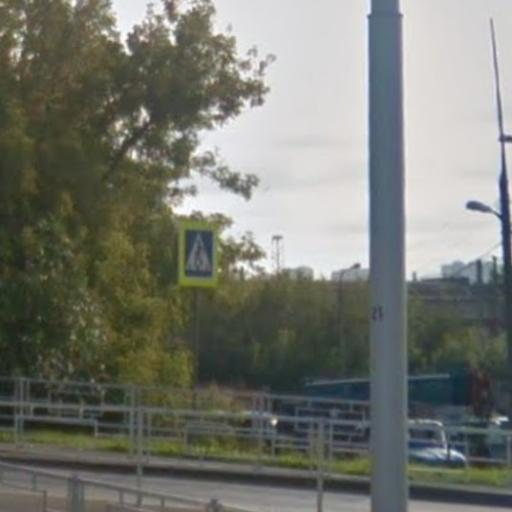traffic_sign: (175, 213, 226, 297)
